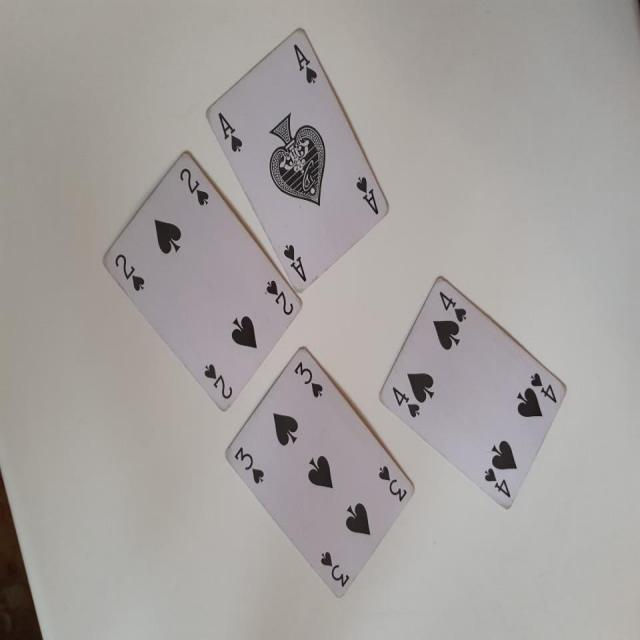3 Diamonds: (100, 149, 303, 416)
4 Diamonds: (217, 348, 416, 606)
5 Diamonds: (378, 276, 568, 508)
A Spades: (202, 28, 388, 292)
